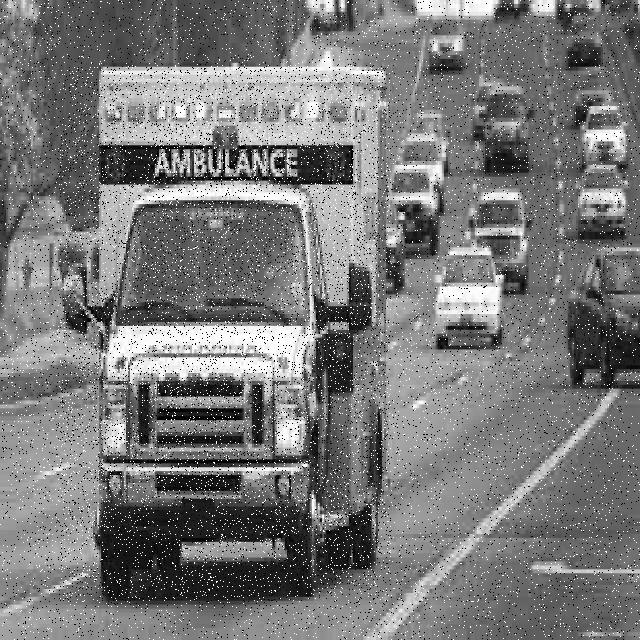Ambulance: (60, 67, 391, 602)
